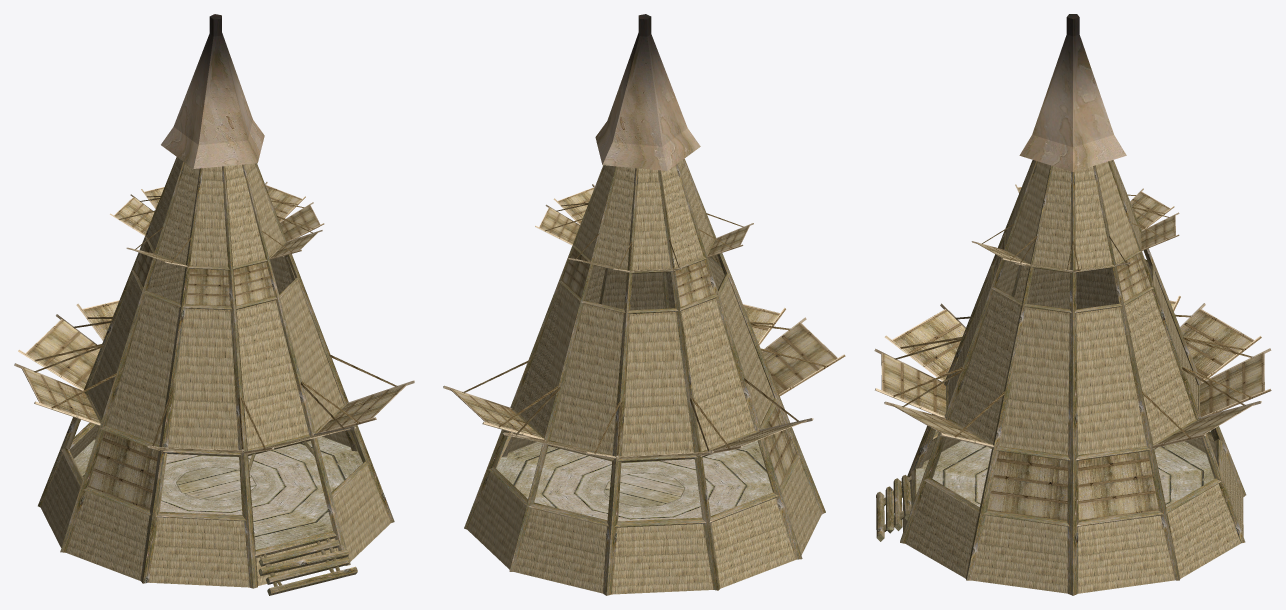
The model's file is thm_endr_lake_hut_s02_l1.fbx.
3 renders of one model, left to right at view 1: azimuth 30°, elevation 25°; view 2: azimuth 150°, elevation 25°; view 3: azimuth 270°, elevation 25°, orthographic.
Visible parts, largest first — view 1: mesh_node; view 2: mesh_node; view 3: mesh_node.
Part boxes in pixels (x1=…): mesh_node: x1=14, y1=14, x2=414, y2=595; mesh_node: x1=443, y1=14, x2=845, y2=595; mesh_node: x1=874, y1=14, x2=1271, y2=595.
Bounding box in the file's own units: 11.41 × 16.47 × 11.76.
